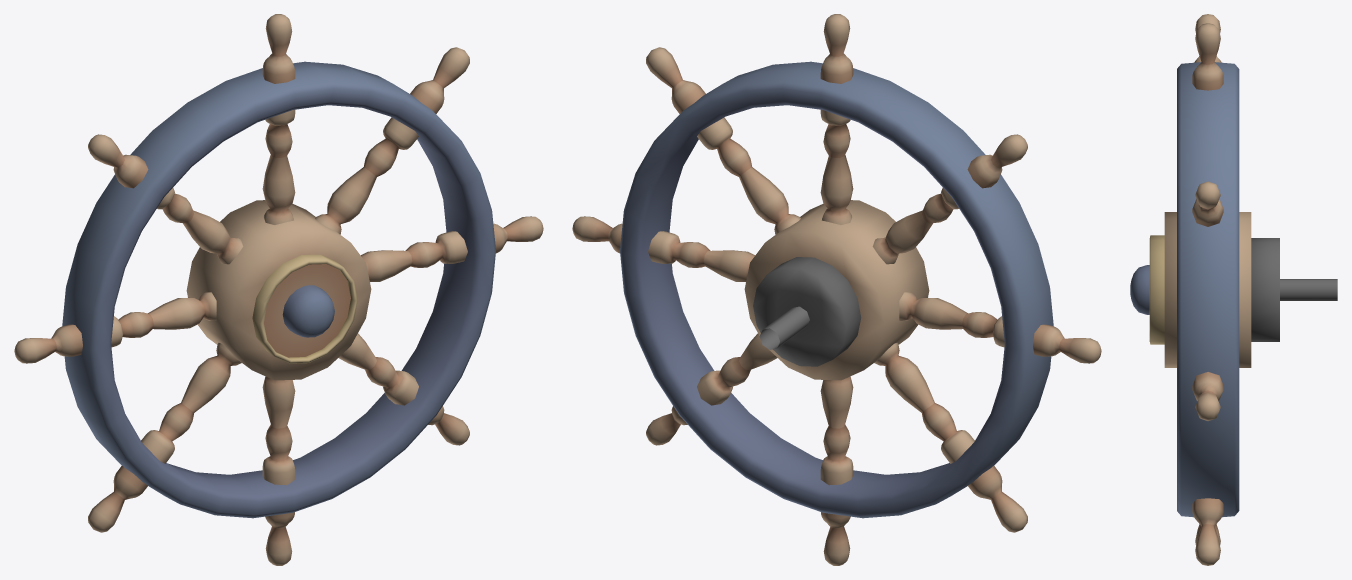
Rendered from Wheel_front.fbx.
3 renders of one model, left to right at view 1: azimuth 30°, elevation 25°; view 2: azimuth 150°, elevation 25°; view 3: azimuth 270°, elevation 25°, orthographic. The views are drawn at different scales.
Parts seen in each view (by area): view 1: Wheel_wheel.003; view 2: Wheel_wheel.003; view 3: Wheel_wheel.003.
Boxes of the visible parts, x1,y1,x2,y2 form: Wheel_wheel.003: [14, 14, 543, 565]; Wheel_wheel.003: [572, 14, 1101, 565]; Wheel_wheel.003: [1130, 14, 1337, 565].
Size of the model in its own units: 203 by 203 by 72.
